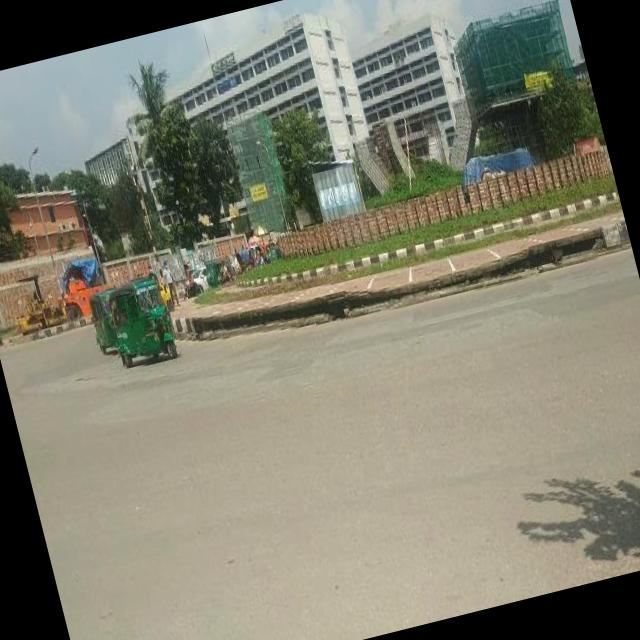motorcycle: (104, 270, 181, 364), (85, 287, 124, 360), (204, 251, 234, 277), (234, 246, 254, 271)
